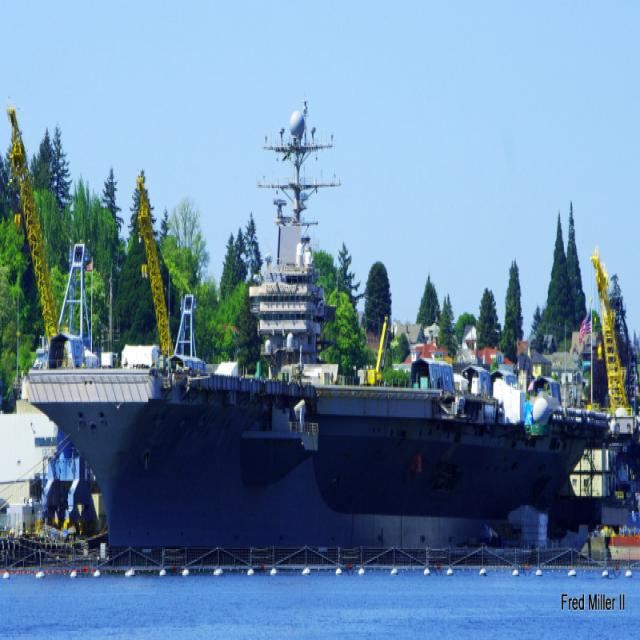Portanaves: (21, 101, 616, 564)
